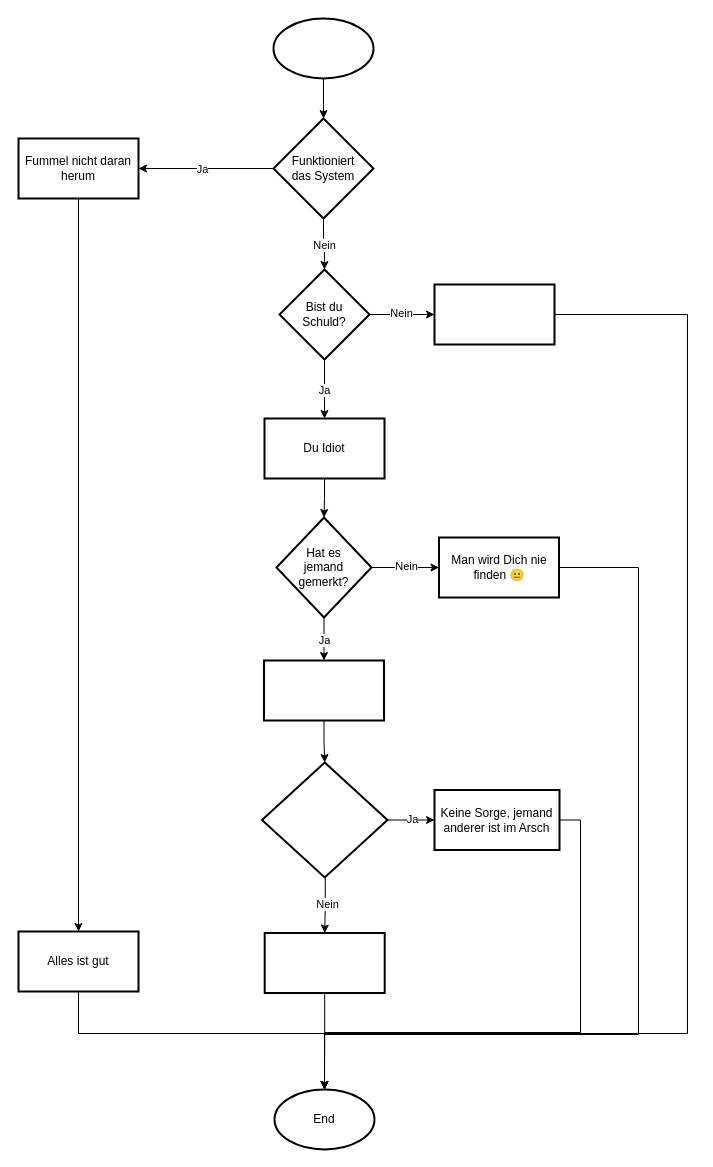
The diagram is 713 pixels wide and 1167 high, and some of its shapes have lost their labels. The shapes that lost their labels are listed below. From the top down, each one's box as (x1, y1, x2, y2) in pixels, then its label:
(272, 17, 374, 79): Start
(433, 283, 555, 345): Dich trifft es nicht 😉
(262, 659, 384, 721): Du bist im Arsch 😶‍🌫️
(260, 761, 388, 878): Kannst Du einem anderen die Schuld zuschieben?
(263, 932, 385, 994): Du bist wirklich im Arsch!
